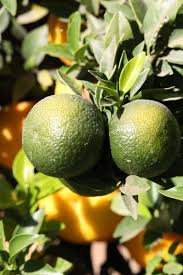orange: (103, 89, 180, 180), (27, 87, 102, 176)
